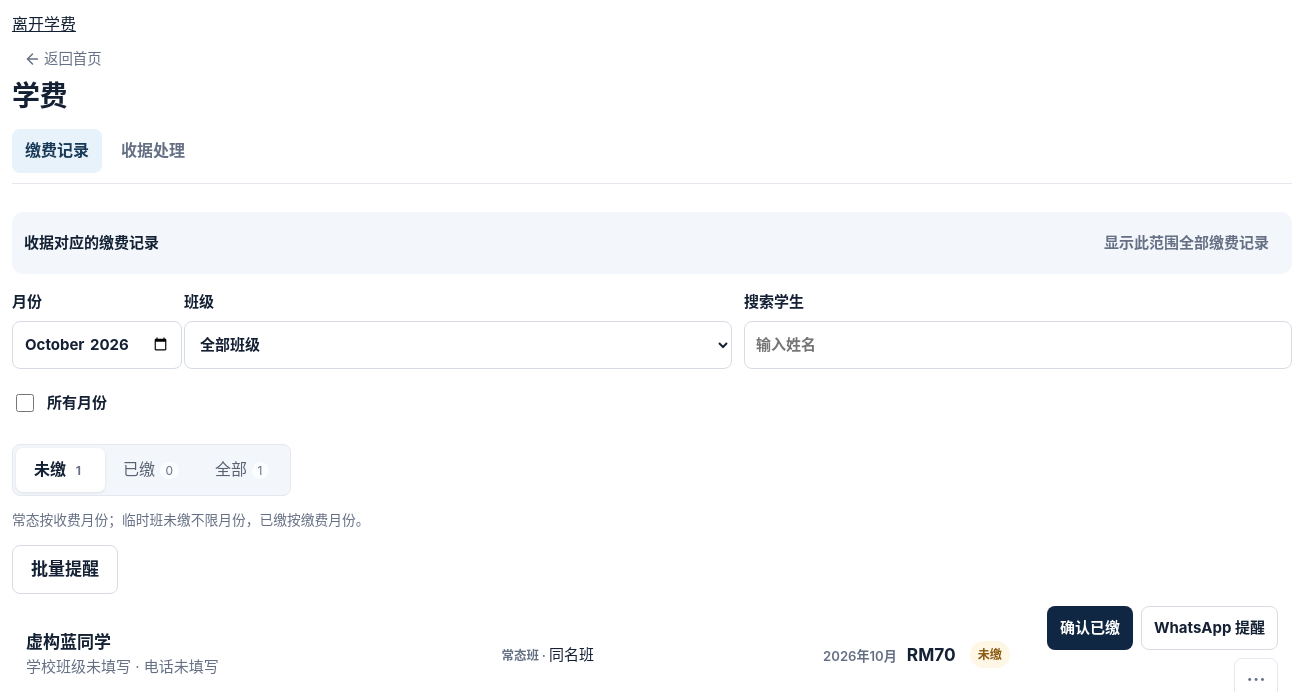
Scenario: search and counts share the same range, and legacy feeId excludes temporary payment with same ID
Check: the text "虚构蓝同学" is shown, box x1=26 y1=632 x2=111 y2=652
Check: the text "单次" is not shown
Click the button "显示此范围全部缴费记录". click: (1186, 243)
box: x1=1093 y1=220 x2=1280 y2=266
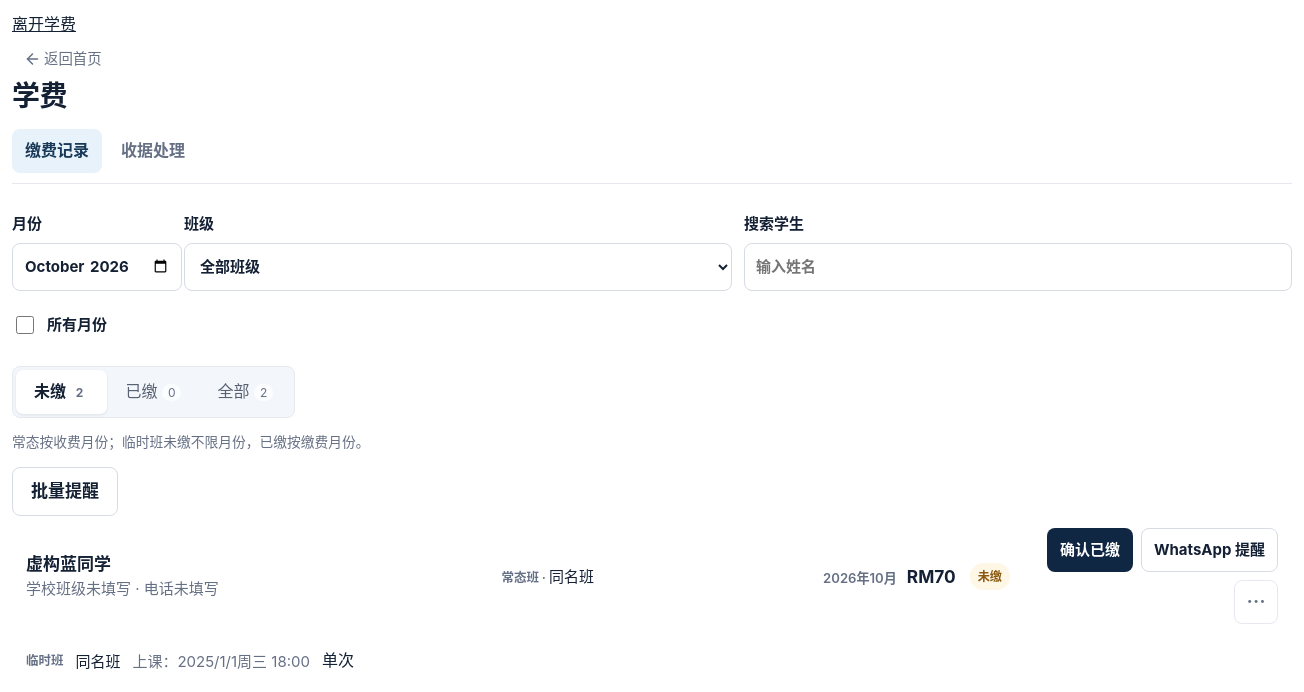
Check: the text "单次" is shown, box x1=322 y1=648 x2=354 y2=674
Type "不存在" into the search field labelled "搜索学生". click: (1018, 267)
box: x1=744 y1=243 x2=1292 y2=291
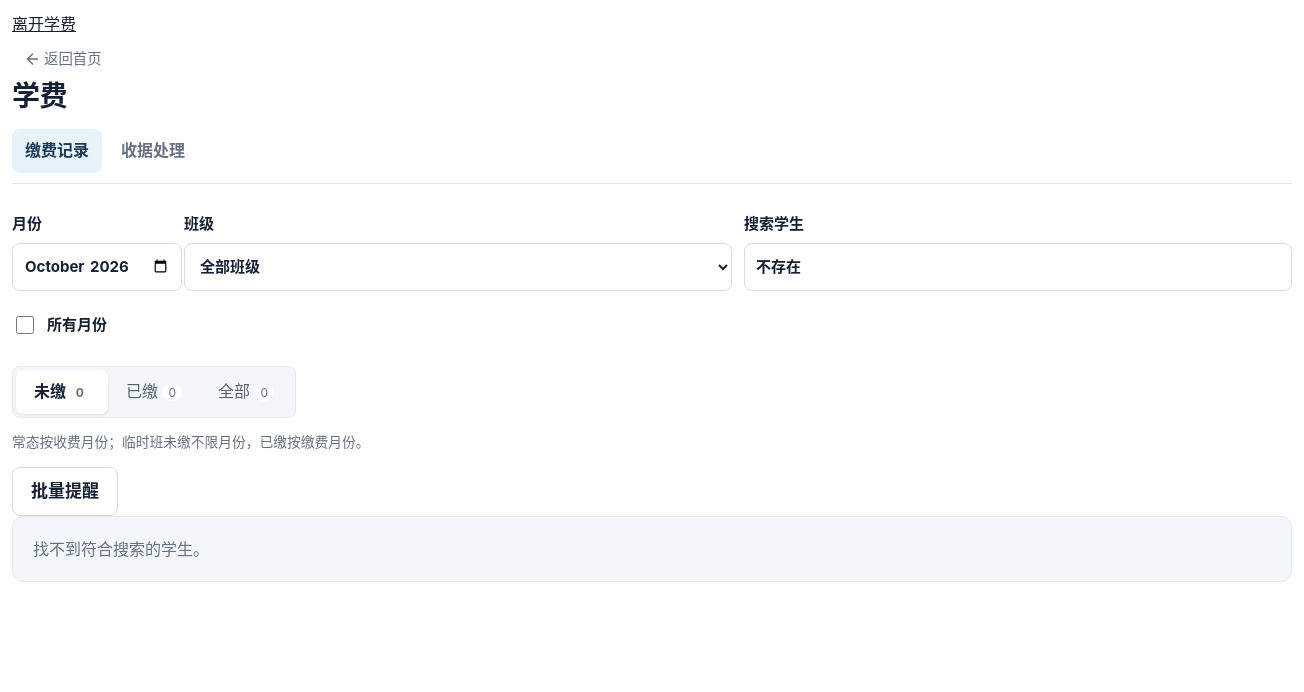
Check: the text "找不到符合搜索的学生。" is shown, box x1=12 y1=516 x2=1292 y2=582
Check: the button "未缴 0" is shown, box x1=16 y1=370 x2=108 y2=414
